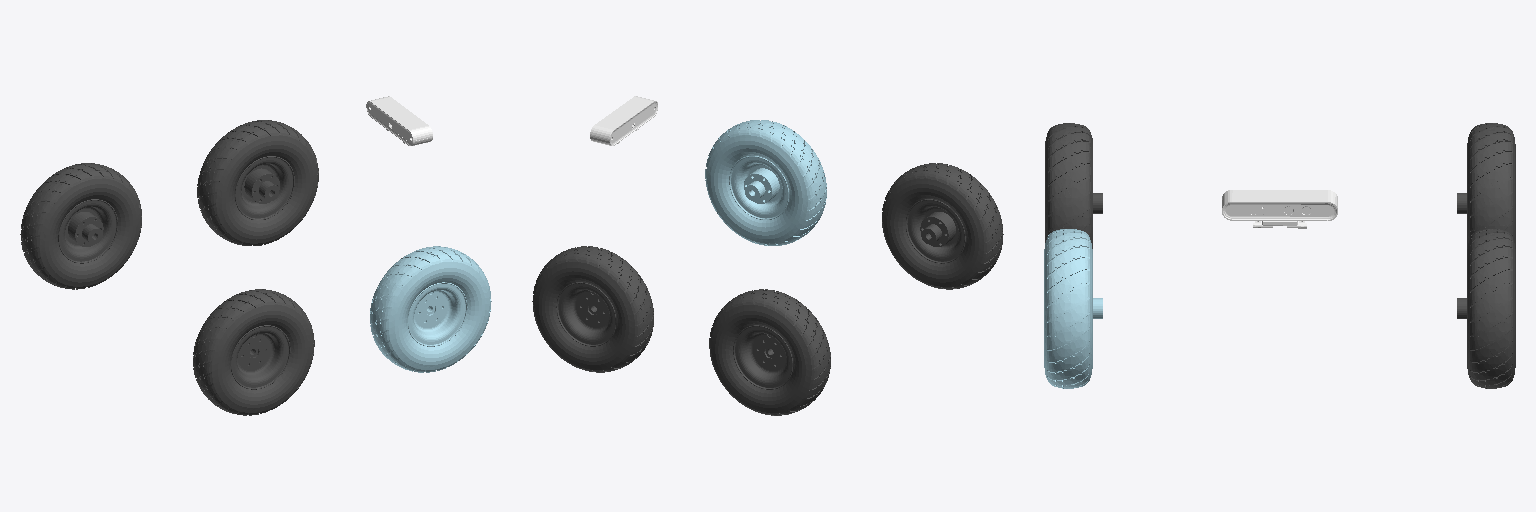
robot.urdf — flagship_4wd_bs_robot:
<?xml version="1.0" encoding="utf-8"?>
<!-- This URDF was automatically created by SolidWorks to URDF Exporter! Originally created by [author] ([email redacted]) 
     Commit Version: 1.6.0-4-g7f85cfe  Build Version: 1.6.7995.38578
     For more information, please see http://wiki.ros.org/sw_urdf_exporter -->
<robot
  name="flagship_4wd_bs_robot">
  <link
    name="base_link">
    <inertial>
      <origin
        xyz="0.00711629375192216 -0.00322188643250548 0.0164854826192974"
        rpy="0 0 0" />
      <mass
        value="5.76365767341195" />
      <inertia
        ixx="0.0600889108441304"
        ixy="3.87487257548475E-05"
        ixz="-1.84301924068732E-05"
        iyy="0.047119629677381"
        iyz="-2.87984082044311E-06"
        izz="0.103264643850885" />
    </inertial>
    <visual>
      <origin
        xyz="0 0 0"
        rpy="0 0 0" />
      <geometry>
        <mesh
          filename="package://wheeltec_robot_urdf/meshes/flagship_4wd_bs_robot_meshes/base_link.STL" />
      </geometry>
      <material
        name="">
        <color
          rgba="0.741176470588235 0.901960784313726 0.956862745098039 1" />
      </material>
    </visual>
    <collision>
      <origin
        xyz="0 0 0"
        rpy="0 0 0" />
      <geometry>
        <mesh
          filename="package://wheeltec_robot_urdf/meshes/flagship_4wd_bs_robot_meshes/base_link.STL" />
      </geometry>
    </collision>
  </link>
  <link
    name="lf_wheel_link">
    <inertial>
      <origin
        xyz="-3.41875903975275E-09 -0.000682850176410663 -2.85288121137928E-06"
        rpy="0 0 0" />
      <mass
        value="2.026608540122" />
      <inertia
        ixx="0.00759875672530629"
        ixy="1.85494841275377E-09"
        ixz="-2.08872209110253E-10"
        iyy="0.0140698735548755"
        iyz="-6.12382724075156E-08"
        izz="0.00759895900406983" />
    </inertial>
    <visual>
      <origin
        xyz="0 0 0"
        rpy="0 0 0" />
      <geometry>
        <mesh
          filename="package://wheeltec_robot_urdf/meshes/flagship_4wd_bs_robot_meshes/lf_wheel_link.STL" />
      </geometry>
      <material
        name="">
        <color
          rgba="0.376470588235294 0.376470588235294 0.376470588235294 1" />
      </material>
    </visual>
    <collision>
      <origin
        xyz="0 0 0"
        rpy="0 0 0" />
      <geometry>
        <mesh
          filename="package://wheeltec_robot_urdf/meshes/flagship_4wd_bs_robot_meshes/lf_wheel_link.STL" />
      </geometry>
    </collision>
  </link>
  <joint
    name="lf_wheel_joint"
    type="continuous">
    <origin
      xyz="0.18569 0.29942 -0.0375"
      rpy="0 0 0" />
    <parent
      link="base_link" />
    <child
      link="lf_wheel_link" />
    <axis
      xyz="0 1 0" />
  </joint>
  <link
    name="lb_wheel_link">
    <inertial>
      <origin
        xyz="-3.387513491937E-09 -0.000682850176382324 -2.85289254427223E-06"
        rpy="0 0 0" />
      <mass
        value="2.02660854012551" />
      <inertia
        ixx="0.00759875671852191"
        ixy="1.85378812488106E-09"
        ixz="-2.11059938738511E-10"
        iyy="0.014069873554914"
        iyz="-6.12359388683187E-08"
        izz="0.00759895901088132" />
    </inertial>
    <visual>
      <origin
        xyz="0 0 0"
        rpy="0 0 0" />
      <geometry>
        <mesh
          filename="package://wheeltec_robot_urdf/meshes/flagship_4wd_bs_robot_meshes/lb_wheel_link.STL" />
      </geometry>
      <material
        name="">
        <color
          rgba="0.376470588235294 0.376470588235294 0.376470588235294 1" />
      </material>
    </visual>
    <collision>
      <origin
        xyz="0 0 0"
        rpy="0 0 0" />
      <geometry>
        <mesh
          filename="package://wheeltec_robot_urdf/meshes/flagship_4wd_bs_robot_meshes/lb_wheel_link.STL" />
      </geometry>
    </collision>
  </link>
  <joint
    name="lb_wheel_joint"
    type="continuous">
    <origin
      xyz="-0.16801 0.29942 -0.0375"
      rpy="0 0 0" />
    <parent
      link="base_link" />
    <child
      link="lb_wheel_link" />
    <axis
      xyz="0 1 0" />
  </joint>
  <link
    name="rb_wheel_link">
    <inertial>
      <origin
        xyz="3.40562189560245E-09 0.00068285017638392 -2.85290642193514E-06"
        rpy="0 0 0" />
      <mass
        value="2.02660854012558" />
      <inertia
        ixx="0.0075987567268587"
        ixy="1.85556315577595E-09"
        ixz="2.08087290625949E-10"
        iyy="0.0140698735549145"
        iyz="6.12361264496805E-08"
        izz="0.00759895900254507" />
    </inertial>
    <visual>
      <origin
        xyz="0 0 0"
        rpy="0 0 0" />
      <geometry>
        <mesh
          filename="package://wheeltec_robot_urdf/meshes/flagship_4wd_bs_robot_meshes/rb_wheel_link.STL" />
      </geometry>
      <material
        name="">
        <color
          rgba="0.376470588235294 0.376470588235294 0.376470588235294 1" />
      </material>
    </visual>
    <collision>
      <origin
        xyz="0 0 0"
        rpy="0 0 0" />
      <geometry>
        <mesh
          filename="package://wheeltec_robot_urdf/meshes/flagship_4wd_bs_robot_meshes/rb_wheel_link.STL" />
      </geometry>
    </collision>
  </link>
  <joint
    name="rb_wheel_joint"
    type="continuous">
    <origin
      xyz="-0.16801 -0.29838 -0.0375"
      rpy="0 0 0" />
    <parent
      link="base_link" />
    <child
      link="rb_wheel_link" />
    <axis
      xyz="0 -1 0" />
  </joint>
  <link
    name="rf_wheel_link">
    <inertial>
      <origin
        xyz="3.41393874281337E-09 0.000682850184950512 -2.85285652522338E-06"
        rpy="0 0 0" />
      <mass
        value="2.02660853980302" />
      <inertia
        ixx="0.00759875672183027"
        ixy="1.85334587884862E-09"
        ixz="2.08134568048384E-10"
        iyy="0.0140698735499331"
        iyz="6.1239414335448E-08"
        izz="0.00759895900501817" />
    </inertial>
    <visual>
      <origin
        xyz="0 0 0"
        rpy="0 0 0" />
      <geometry>
        <mesh
          filename="package://wheeltec_robot_urdf/meshes/flagship_4wd_bs_robot_meshes/rf_wheel_link.STL" />
      </geometry>
      <material
        name="">
        <color
          rgba="0.741176470588235 0.901960784313726 0.956862745098039 1" />
      </material>
    </visual>
    <collision>
      <origin
        xyz="0 0 0"
        rpy="0 0 0" />
      <geometry>
        <mesh
          filename="package://wheeltec_robot_urdf/meshes/flagship_4wd_bs_robot_meshes/rf_wheel_link.STL" />
      </geometry>
    </collision>
  </link>
  <joint
    name="rf_wheel_joint"
    type="continuous">
    <origin
      xyz="0.18569 -0.29938 -0.0375"
      rpy="0 0 0" />
    <parent
      link="base_link" />
    <child
      link="rf_wheel_link" />
    <axis
      xyz="0 -1 0" />
  </joint>
  <link
    name="camera_link">
    <inertial>
      <origin
        xyz="-1.49472340595092E-07 1.5737615574607E-07 -3.19615127974959E-07"
        rpy="0 0 0" />
      <mass
        value="0.055984252920277" />
      <inertia
        ixx="0.000130802200744622"
        ixy="-9.96617453034006E-07"
        ixz="1.62299342697035E-06"
        iyy="1.9123626272978E-05"
        iyz="-4.42334063842034E-08"
        izz="0.000131387473459422" />
    </inertial>
    <visual>
      <origin
        xyz="0 0 0"
        rpy="0 0 0" />
      <geometry>
        <mesh
          filename="package://wheeltec_robot_urdf/meshes/flagship_4wd_bs_robot_meshes/camera_link.STL" />
      </geometry>
      <material
        name="">
        <color
          rgba="1 1 1 1" />
      </material>
    </visual>
    <collision>
      <origin
        xyz="0 0 0"
        rpy="0 0 0" />
      <geometry>
        <mesh
          filename="package://wheeltec_robot_urdf/meshes/flagship_4wd_bs_robot_meshes/camera_link.STL" />
      </geometry>
    </collision>
  </link>
  <joint
    name="camera_joint"
    type="fixed">
    <origin
      xyz="0.29879 0.00024064 0.1722"
      rpy="0 0 0" />
    <parent
      link="base_link" />
    <child
      link="camera_link" />
    <axis
      xyz="0 0 0" />
  </joint>
  <link
    name="laser_link">
    <inertial>
      <origin
        xyz="-0.00207956288634144 -9.87028646592947E-07 -0.0264472435671745"
        rpy="0 0 0" />
      <mass
        value="0.00426368606026277" />
      <inertia
        ixx="1.45373992961577E-06"
        ixy="2.48436939591044E-14"
        ixz="-8.86181044864516E-08"
        iyy="1.17647720289551E-06"
        iyz="-2.28919925891608E-15"
        izz="2.03836666874871E-06" />
    </inertial>
    <visual>
      <origin
        xyz="0 0 0"
        rpy="0 0 0" />
      <geometry>
        <mesh
          filename="package://wheeltec_robot_urdf/meshes/flagship_4wd_bs_robot_meshes/laser.STL" />
      </geometry>
      <material
        name="">
        <color
          rgba="0.376470588235294 0.376470588235294 0.376470588235294 1" />
      </material>
    </visual>
    <collision>
      <origin
        xyz="0 0 0"
        rpy="0 0 0" />
      <geometry>
        <mesh
          filename="package://wheeltec_robot_urdf/meshes/flagship_4wd_bs_robot_meshes/laser.STL" />
      </geometry>
    </collision>
  </link>
  <joint
    name="laser_joint"
    type="fixed">
    <origin
      xyz="0.24699 1.6642E-05 0.24466"
      rpy="0 0 -3.1416" />
    <parent
      link="base_link" />
    <child
      link="laser_link" />
    <axis
      xyz="0 0 0" />
  </joint>
  <link
    name="controller_link">
    <inertial>
      <origin
        xyz="-0.0497103400790872 0.0175133935293347 0.00856001460559358"
        rpy="0 0 0" />
      <mass
        value="0.00107921953110442" />
      <inertia
        ixx="1.16330109775188E-08"
        ixy="-3.9409266886985E-09"
        ixz="3.69212784612828E-10"
        iyy="2.26830020206351E-07"
        iyz="5.23015130069644E-10"
        izz="2.25657042461938E-07" />
    </inertial>
    <visual>
      <origin
        xyz="0 0 0"
        rpy="0 0 0" />
      <geometry>
        <mesh
          filename="package://wheeltec_robot_urdf/meshes/flagship_4wd_bs_robot_meshes/controller_link.STL" />
      </geometry>
      <material
        name="">
        <color
          rgba="0.741176470588235 0.901960784313726 0.956862745098039 1" />
      </material>
    </visual>
    <collision>
      <origin
        xyz="0 0 0"
        rpy="0 0 0" />
      <geometry>
        <mesh
          filename="package://wheeltec_robot_urdf/meshes/flagship_4wd_bs_robot_meshes/controller_link.STL" />
      </geometry>
    </collision>
  </link>
  <joint
    name="controller_joint"
    type="fixed">
    <origin
      xyz="0.101379911991688 0.0620176418028517 0.00150000000000056"
      rpy="0 0 0" />
    <parent
      link="base_link" />
    <child
      link="controller_link" />
    <axis
      xyz="0 0 0" />
  </joint>
</robot>

--- What the picture shows (computed from the rendered views, not written in the file) ---
3 views of the same robot in one strip: view 1: azimuth 30°, elevation 25°; view 2: azimuth 150°, elevation 25°; view 3: azimuth 270°, elevation 25° (orthographic).
Robot: flagship_4wd_bs_robot — 8 links, 7 joints (4 continuous, 3 fixed); root link base_link; default pose: all joints at 0.
Visible links, largest first — view 1: rb_wheel_link, lb_wheel_link, lf_wheel_link, rf_wheel_link, camera_link; view 2: rf_wheel_link, lb_wheel_link, lf_wheel_link, rb_wheel_link, camera_link; view 3: lf_wheel_link, rf_wheel_link, lb_wheel_link, rb_wheel_link, camera_link.
Link boxes in pixels (x1,y1,x2,y2): rb_wheel_link: (193,289,314,415); lb_wheel_link: (20,163,141,289); lf_wheel_link: (197,120,318,245); rf_wheel_link: (370,246,491,372); camera_link: (366,96,432,145); rf_wheel_link: (705,120,826,245); lb_wheel_link: (709,289,830,415); lf_wheel_link: (532,246,653,372); rb_wheel_link: (882,163,1003,289); camera_link: (590,96,657,145); lf_wheel_link: (1457,229,1515,388); rf_wheel_link: (1044,229,1102,388); lb_wheel_link: (1457,123,1515,248); rb_wheel_link: (1045,123,1102,248); camera_link: (1222,190,1337,228).
Size in the robot's own frame: 0.5991 by 0.6668 by 0.3414 metres.
5 mesh visuals loaded from 8 distinct referenced files (5 binary STL); not drawn: 3 (reference not matched to a file when rendering).